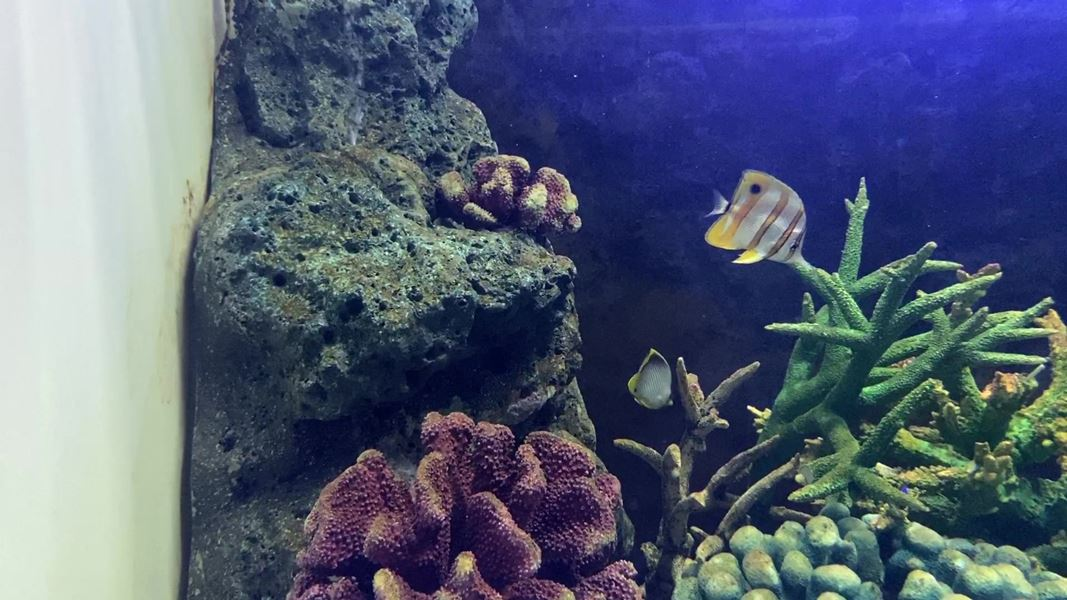Black-backed butterflyfish: (623, 344, 683, 415)
